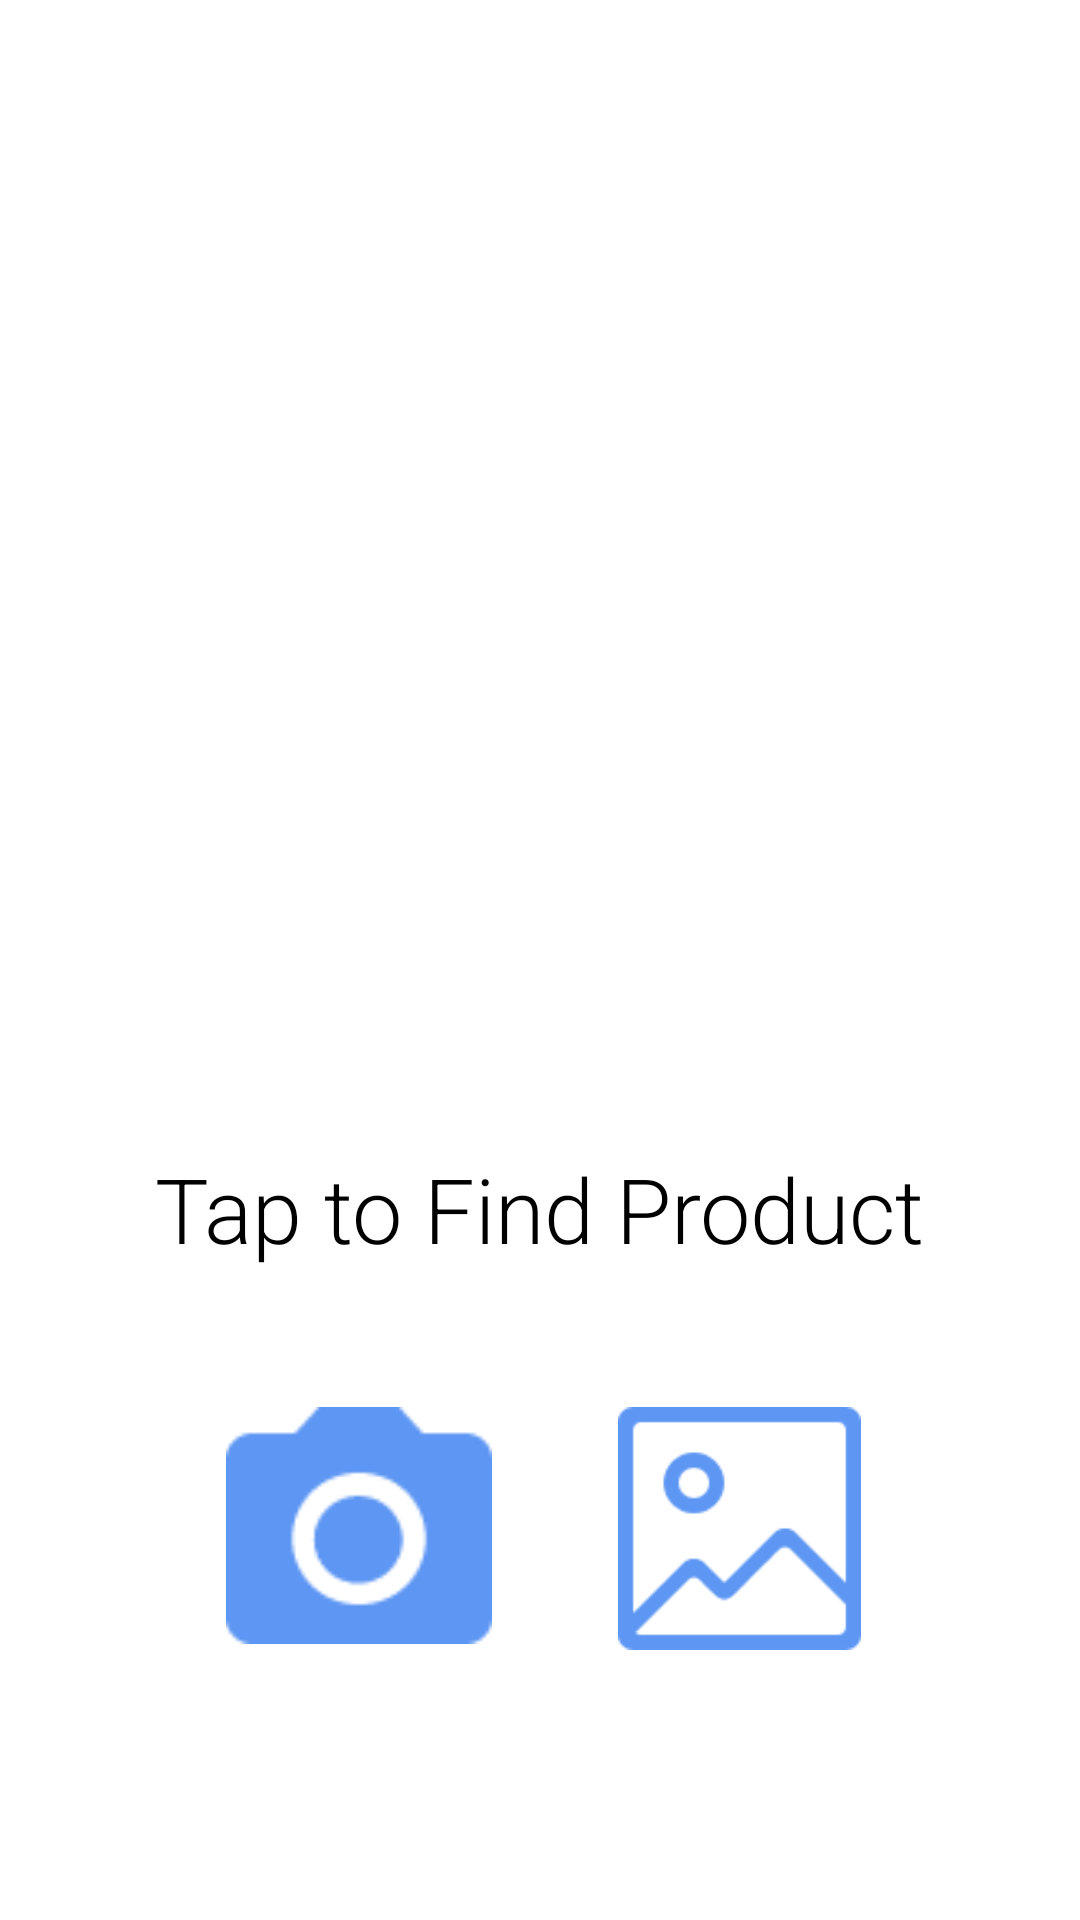

Icon bounding boxes for this 1080 x 1920 phone screenshot, format (x1, y1, x2, y2):
camera: (226, 1407, 492, 1644)
pick: (618, 1407, 861, 1650)
